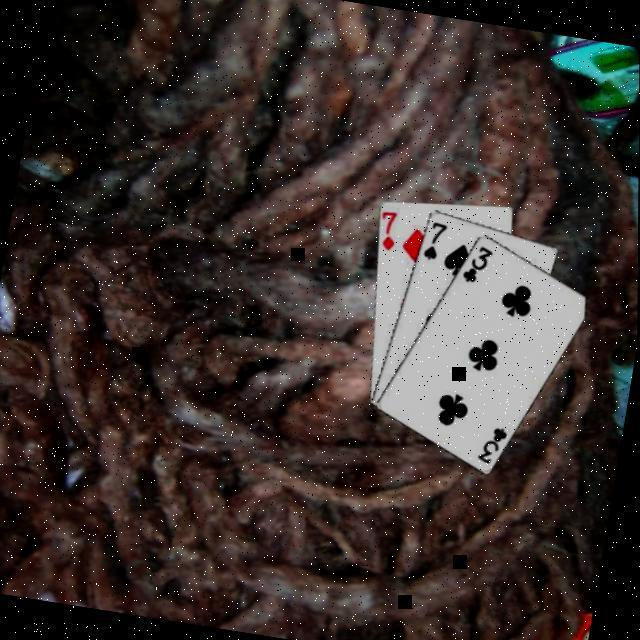3C: (461, 239, 499, 286), (478, 420, 514, 468)
7D: (377, 205, 404, 252)
7S: (422, 215, 452, 262)
